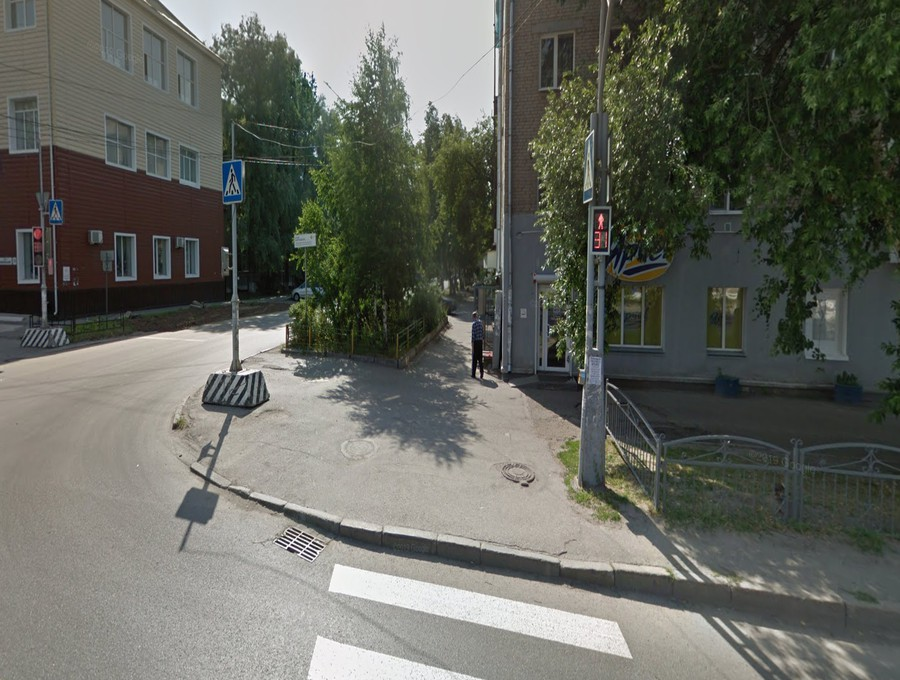Traffic Light-red: (590, 204, 611, 252)
